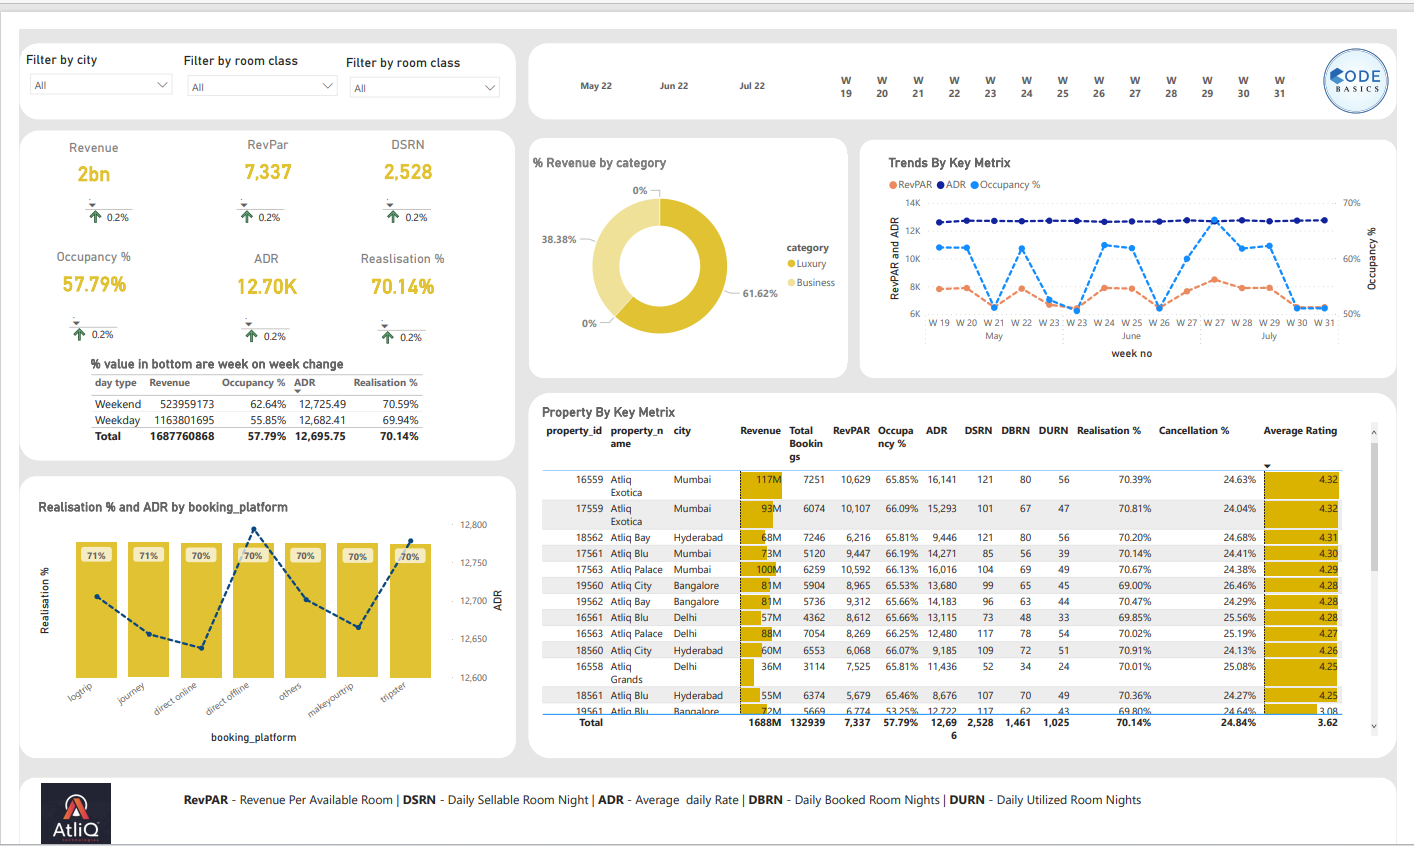

The page's visual inventory and layout, read from the dashboard file:
{"tool":"powerbi","page":{"name":"Page 1","canvas":[1800,1100],"ordinal":0},"visuals":[{"type":"shape","box":[665.2,475.4,1135,477.2],"z":0},{"type":"shape","box":[0,584.1,648.6,368.5],"z":1000},{"type":"shape","box":[1098,144,702,312],"z":2000},{"type":"shape","box":[666,142,416,314],"z":3000},{"type":"shape","box":[0,132,648,432],"z":4000},{"type":"shape","box":[665.2,18.4,1135,99.5],"z":5000},{"type":"shape","box":[0,18.4,648.6,99.5],"z":6000},{"type":"slicer","title":"Filter by city","fields":{"Values":["dim_hotels.city"]},"box":[3.7,29.5,206.4,60.8],"z":7000},{"type":"slicer","title":"Filter by room class","fields":{"Values":["dim_rooms.room_class"]},"box":[210.1,31.3,215.6,71.9],"z":8000},{"type":"tableEx","title":"Property By Key Metrix","fields":{"Values":["dim_hotels.property_id","dim_hotels.property_name","dim_hotels.city","key_measures.Revenue","key_measures.Total Bookings","key_measures.RevPAR","key_measures.Occupancy %","key_measures.ADR","key_measures.DSRN","key_measures.DBRN","key_measures.DURN","key_measures.Realisation %"]},"box":[678.1,490.1,1101.8,447.7],"z":9000},{"type":"slicer","fields":{"Values":["dim_date.mmm yy"]},"box":[678.1,29.5,353.8,73.7],"z":10000},{"type":"slicer","fields":{"Values":["dim_date.week no"]},"box":[1032,30,662,74],"z":11000},{"type":"tableEx","fields":{"Values":["key_measures.Revenue WoW change %"]},"box":[79.8,204,88,64],"z":12000},{"type":"donutChart","title":"% Revenue by category","fields":{"Category":["dim_hotels.category"],"Y":["key_measures.Revenue","key_measures.ADR"]},"box":[666,164,416,272],"z":13000},{"type":"card","title":"Occupancy %","fields":{"Values":["key_measures.Occupancy %"]},"box":[20.3,287.4,154.8,70],"z":14000},{"type":"card","title":"ADR","fields":{"Values":["key_measures.ADR"]},"box":[240.5,290,164,70],"z":15000},{"type":"card","title":"Reaslisation %","fields":{"Values":["key_measures.Realisation %"]},"box":[416,290,170,70],"z":16000},{"type":"tableEx","fields":{"Values":["key_measures.Revenue WoW change %"]},"box":[277.5,204,94,64],"z":17000},{"type":"tableEx","fields":{"Values":["key_measures.Revenue WoW change %"]},"box":[468.5,204,78,64],"z":18000},{"type":"tableEx","fields":{"Values":["key_measures.Revenue WoW change %"]},"box":[58.5,358,78,66],"z":19000},{"type":"tableEx","fields":{"Values":["key_measures.Revenue WoW change %"]},"box":[283.5,360,78,66],"z":20000},{"type":"tableEx","fields":{"Values":["key_measures.Revenue WoW change %"]},"box":[462,362,78,66],"z":21000},{"type":"lineChart","title":"Trends By Key Metrix","fields":{"Category":["dim_date.mmm yy.Variation.Date Hierarchy.Month","dim_date.week no"],"Y":["key_measures.RevPAR","key_measures.ADR"],"Y2":["key_measures.Occupancy %"]},"box":[1131.3,164,648.6,272.7],"z":22000},{"type":"lineStackedColumnComboChart","fields":{"Category":["fact_bookings.booking_platform"],"Y2":["key_measures.ADR"],"Y":["key_measures.Realisation %"]},"box":[20.3,613.6,617.3,324.3],"z":23000},{"type":"tableEx","title":"% value in bottom are week on week change","fields":{"Values":["dim_date.day type","key_measures.Revenue","key_measures.Occupancy %","key_measures.ADR","key_measures.Realisation %"]},"box":[88.4,427.5,460.6,123.5],"z":24000},{"type":"card","title":"Revenue","fields":{"Values":["key_measures.Revenue"]},"box":[11.1,143.7,173.2,68.2],"z":25000},{"type":"card","title":"RevPar","fields":{"Values":["key_measures.RevPAR"]},"box":[244.5,141.3,160,68],"z":26000},{"type":"card","title":"DSRN","fields":{"Values":["key_measures.DSRN"]},"box":[429.5,141.3,156,68],"z":27000},{"type":"shape","box":[0,978,1800,106],"z":28000},{"type":"image","box":[1694,18,106,100],"z":29000},{"type":"image","box":[24,978,100,106],"z":30000},{"type":"textbox","box":[210.1,991.3,1359.8,55.3],"z":30001},{"type":"slicer","title":"Filter by room class","fields":{"Values":["dim_rooms.room_class"]},"box":[421.9,33.2,215.6,71.9],"z":30002}]}

Visuals, with their boxes in screenshot pixels (x1, y1, x2, y2), scaled from the page's 1800x1100 canvas onto the 1414x846 screenshot:
shape: 523 366 1413 733
shape: 0 449 510 733
shape: 863 111 1413 351
shape: 523 109 850 351
shape: 0 102 509 434
shape: 523 14 1413 91
shape: 0 14 510 91
"Filter by city" slicer: 3 23 165 69
"Filter by room class" slicer: 165 24 334 79
"Property By Key Metrix" tableEx: 533 377 1398 721
slicer - dim_date.mmm yy: 533 23 811 79
slicer - dim_date.week no: 811 23 1331 80
tableEx - key_measures.Revenue WoW change %: 63 157 132 206
"% Revenue by category" donutChart: 523 126 850 335
"Occupancy %" card: 16 221 138 275
"ADR" card: 189 223 318 277
"Reaslisation %" card: 327 223 460 277
tableEx - key_measures.Revenue WoW change %: 218 157 292 206
tableEx - key_measures.Revenue WoW change %: 368 157 429 206
tableEx - key_measures.Revenue WoW change %: 46 275 107 326
tableEx - key_measures.Revenue WoW change %: 223 277 284 328
tableEx - key_measures.Revenue WoW change %: 363 278 424 329
"Trends By Key Metrix" lineChart: 889 126 1398 336
lineStackedColumnComboChart - fact_bookings.booking_platform x key_measures.ADR: 16 472 501 721
"% value in bottom are week on week change" tableEx: 69 329 431 424
"Revenue" card: 9 111 145 163
"RevPar" card: 192 109 318 161
"DSRN" card: 337 109 460 161
shape: 0 752 1413 834
image: 1331 14 1413 91
image: 19 752 97 834
textbox: 165 762 1233 805
"Filter by room class" slicer: 331 26 501 81
